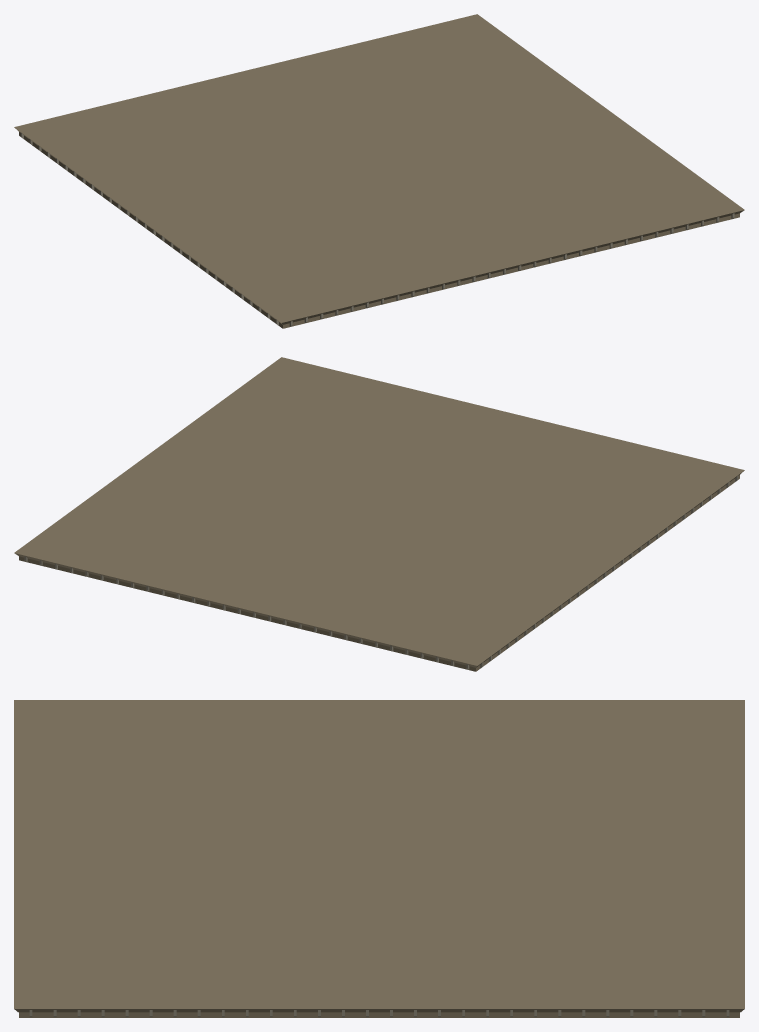
The model's file is Fronton_1.fbx.
3 renders of one model, top to bottom at view 1: azimuth 30°, elevation 25°; view 2: azimuth 150°, elevation 25°; view 3: azimuth 270°, elevation 25°, orthographic. The views are drawn at different scales.
Parts seen in each view (by area): view 1: Fronton_1; view 2: Fronton_1; view 3: Fronton_1.
Part boxes in pixels (box(x1,y1,x2,y2)): Fronton_1: box(14, 14, 744, 328); Fronton_1: box(14, 357, 744, 671); Fronton_1: box(14, 700, 744, 1017).
Bounding box in the file's own units: 608 × 10 × 608.
